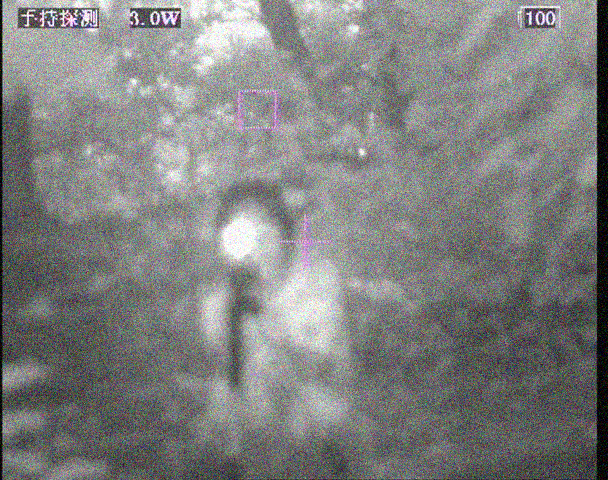my: (220, 221, 259, 258)
